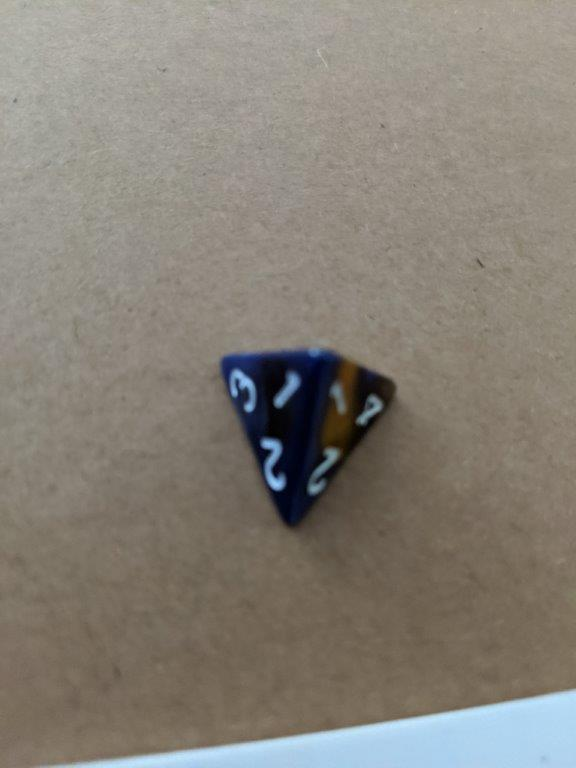d4-1: (205, 344, 401, 534)
